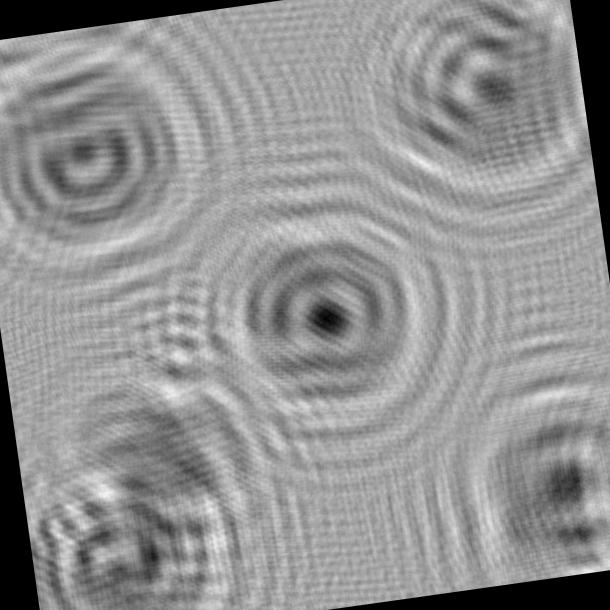D: (0, 12, 234, 297)
F: (421, 359, 610, 592)
G: (19, 434, 257, 610)
P: (167, 184, 464, 470)
U: (340, 0, 598, 233)
Y: (17, 312, 326, 593)
